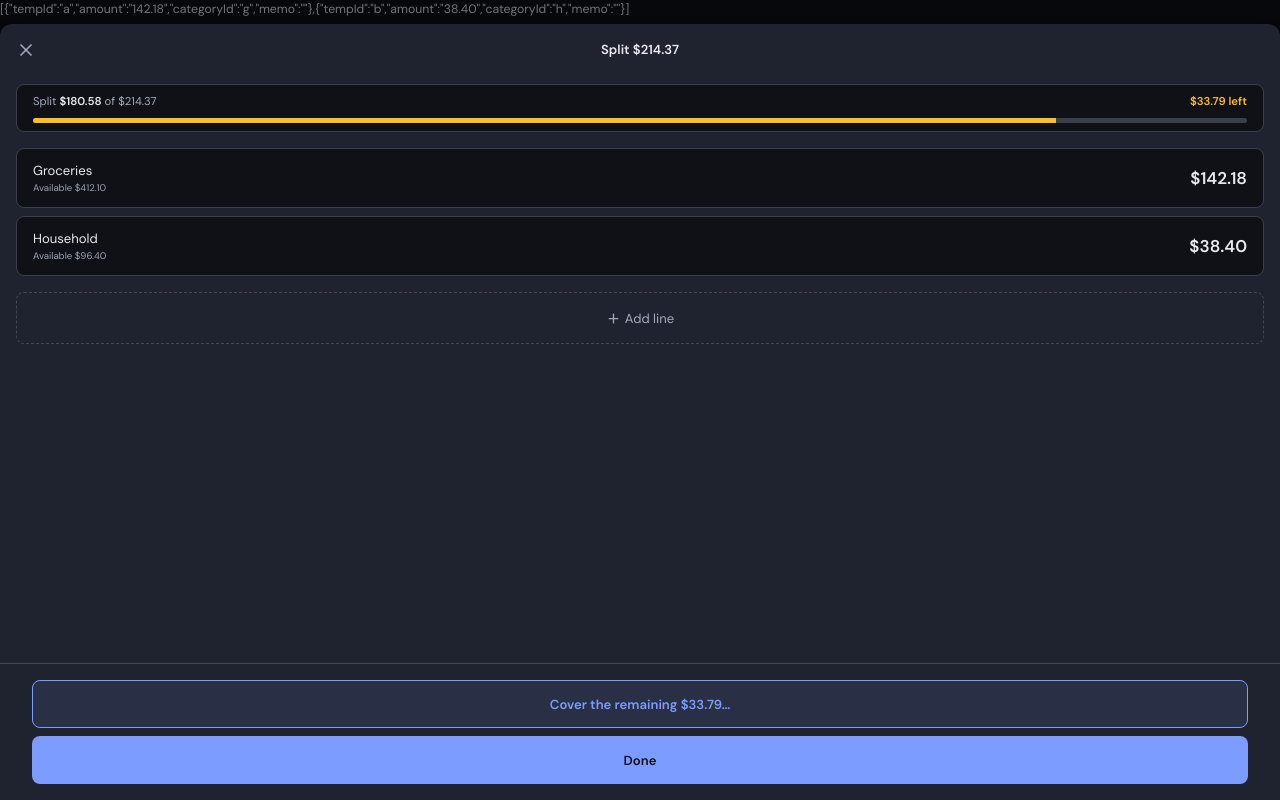
Test: SplitSheet › offers the lines already in the split first when covering the rest, saying what each becomes
What coordinates should you click on to do the following:
click the button "Cover the remaining $33.79…"
I would click on:
 (640, 704)
Its box is [32,680,1248,728].
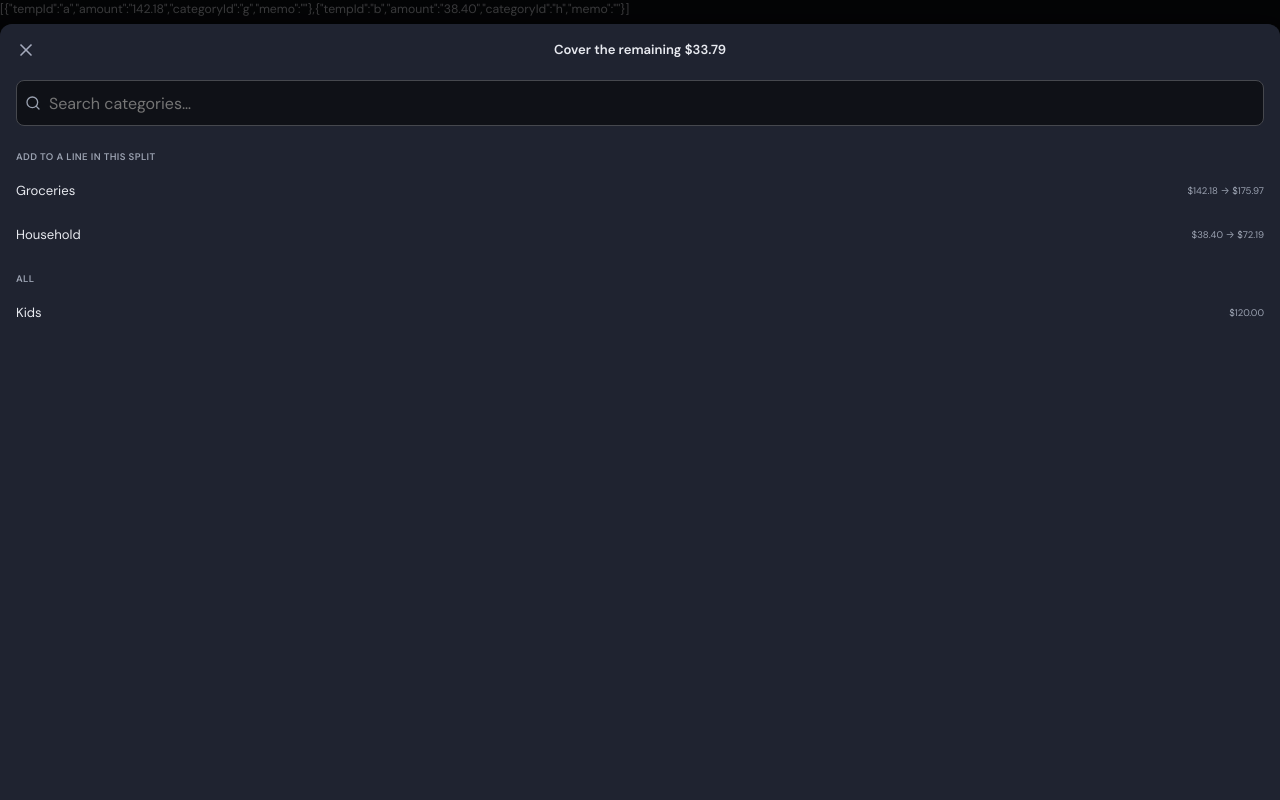
Expected: the text "Add to a line in this split" is shown, [16,150,156,163]
Expected: the button "Groceries $142.18 → $175.97" is shown
What coordinates should you click on to do the following:
click the button "Groceries $142.18 → $175.97"
I would click on:
 (46, 190)
Its box is [8,168,1272,212].
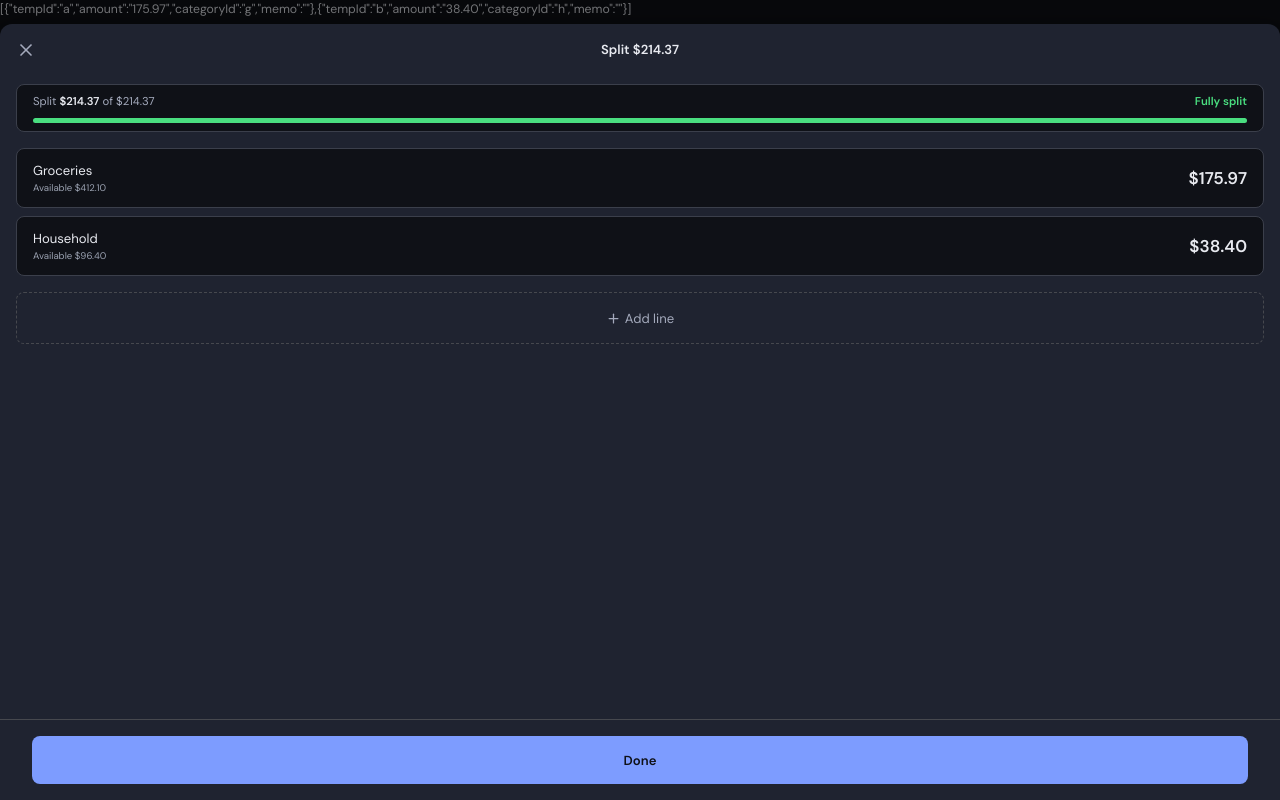
Expected: the message reads "Fully split", [1195,94,1247,109]
